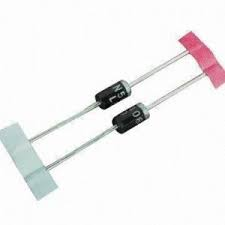diode: (105, 102, 163, 151), (81, 69, 144, 106)
